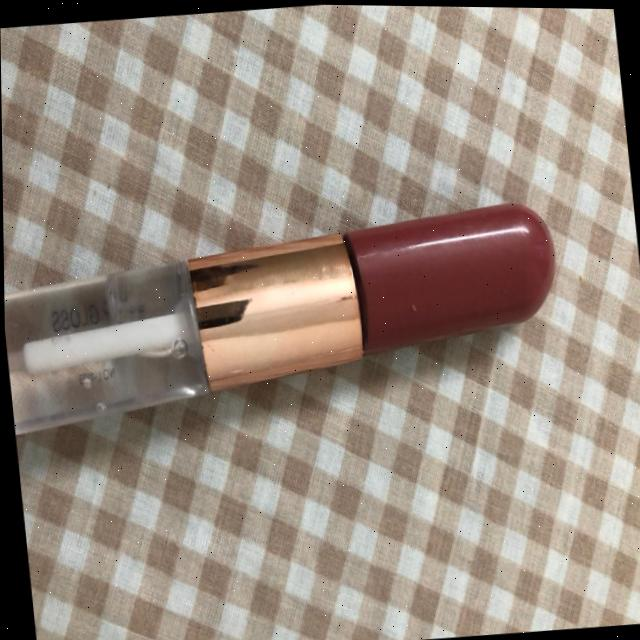lip gloss: (2, 152, 581, 463)
